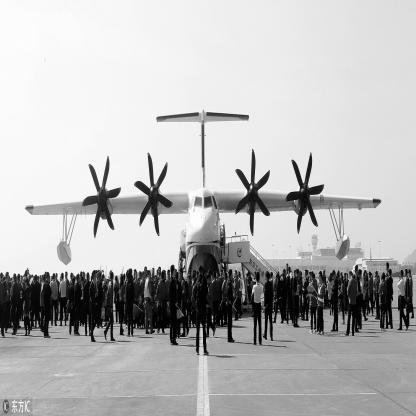AG600: (26, 108, 383, 286)
